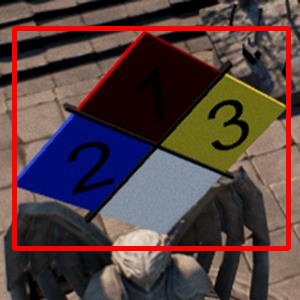nfpa: (14, 28, 288, 248)
